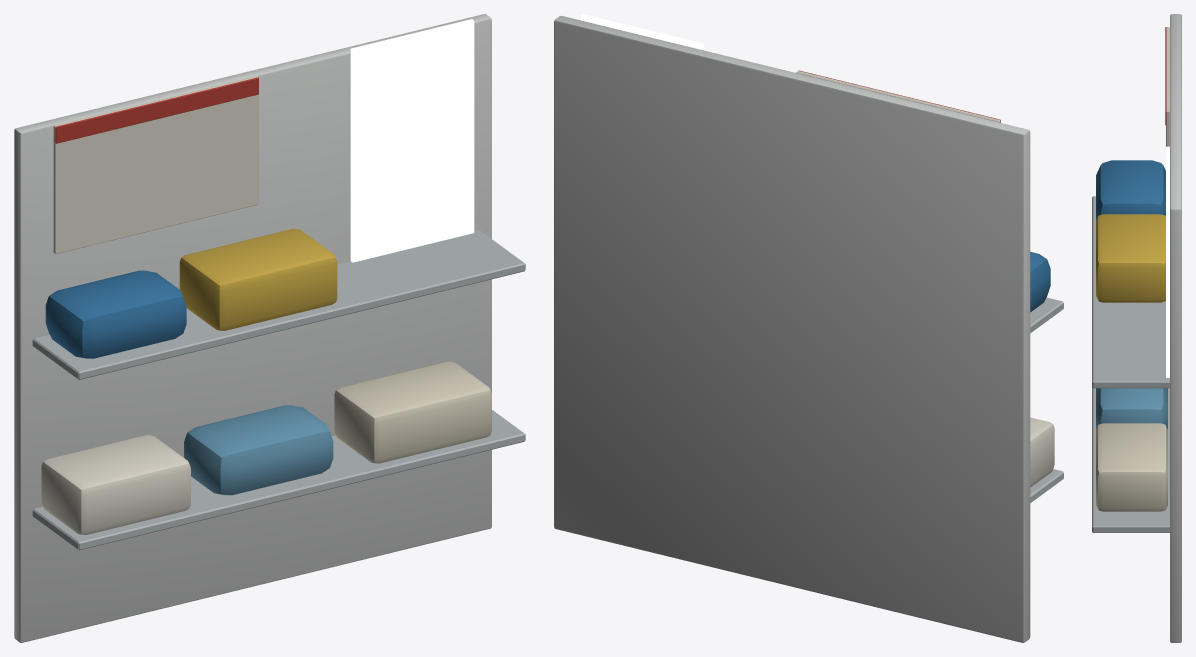
The model's file is sc-ppe-station.glb.
3 renders of one model, left to right at view 1: azimuth 30°, elevation 25°; view 2: azimuth 150°, elevation 25°; view 3: azimuth 270°, elevation 25°, orthographic. The views are drawn at different scales.
Parts seen in each view (by area): view 1: sc-ppe-station; view 2: sc-ppe-station; view 3: sc-ppe-station.
Boxes of the visible parts, bbox=[...] form: sc-ppe-station: bbox=[14, 14, 525, 642]; sc-ppe-station: bbox=[554, 14, 1063, 642]; sc-ppe-station: bbox=[1092, 14, 1181, 642].
Bounding box in the file's own units: 1.16 × 1.21 × 0.225.
